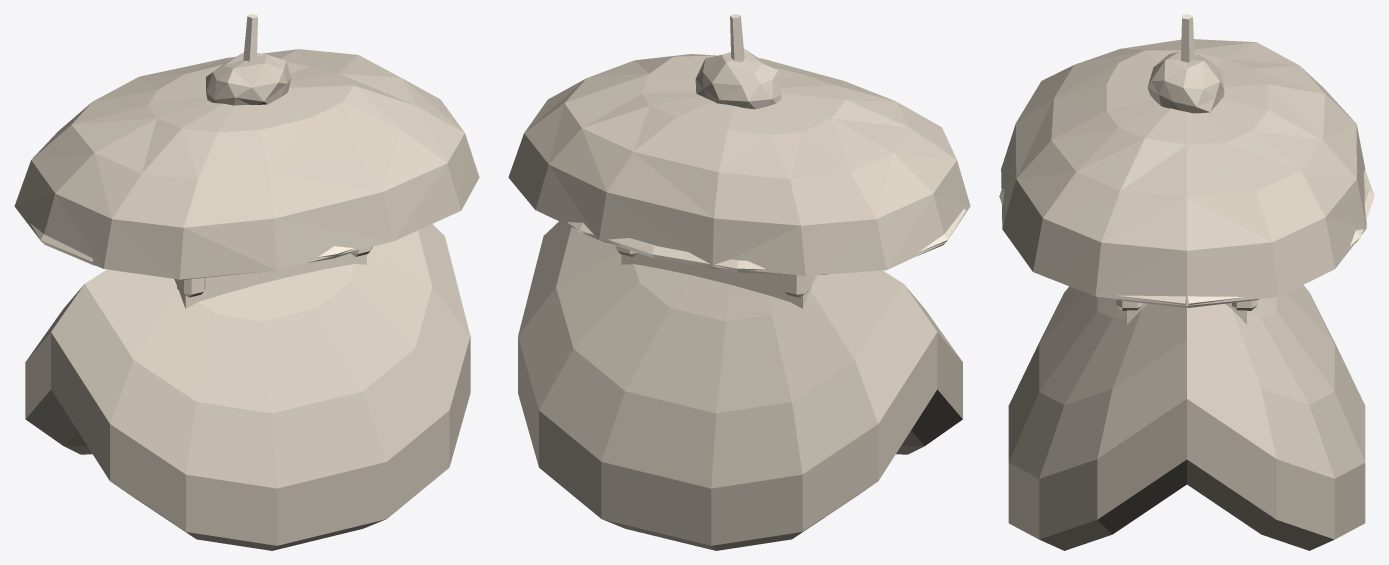
File: SM_VK_RoofThatch_Vent.fbx
The picture shows the model from 3 angles, left to right: view 1: azimuth 30°, elevation 25°; view 2: azimuth 150°, elevation 25°; view 3: azimuth 270°, elevation 25°; orthographic projection. The views are drawn at different scales.
Visible parts, largest first — view 1: SM_VK_RoofThatch_Vent.001; view 2: SM_VK_RoofThatch_Vent.001; view 3: SM_VK_RoofThatch_Vent.001.
Part boxes in pixels (x1=…): SM_VK_RoofThatch_Vent.001: x1=14, y1=14, x2=479, y2=550; SM_VK_RoofThatch_Vent.001: x1=508, y1=14, x2=970, y2=550; SM_VK_RoofThatch_Vent.001: x1=999, y1=14, x2=1374, y2=550.
Bounding box in the file's own units: 1.69 × 1.84 × 1.25.
